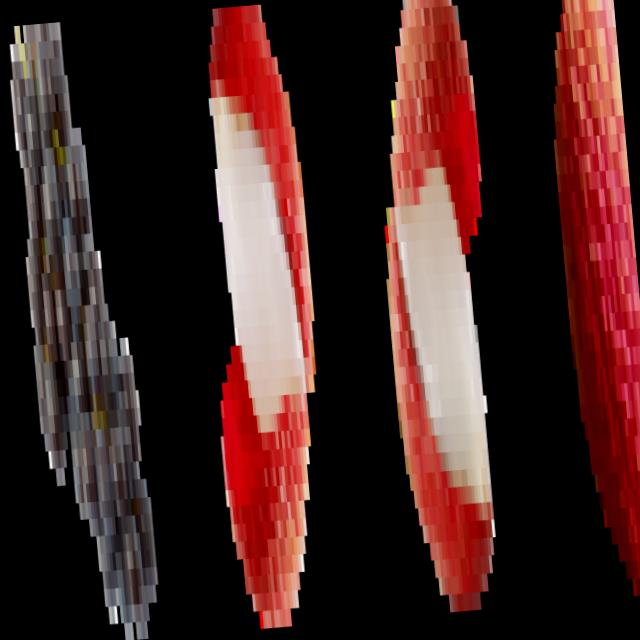grape: (0, 17, 165, 640)
lychee: (349, 0, 528, 633), (178, 1, 350, 631), (533, 0, 640, 599)
